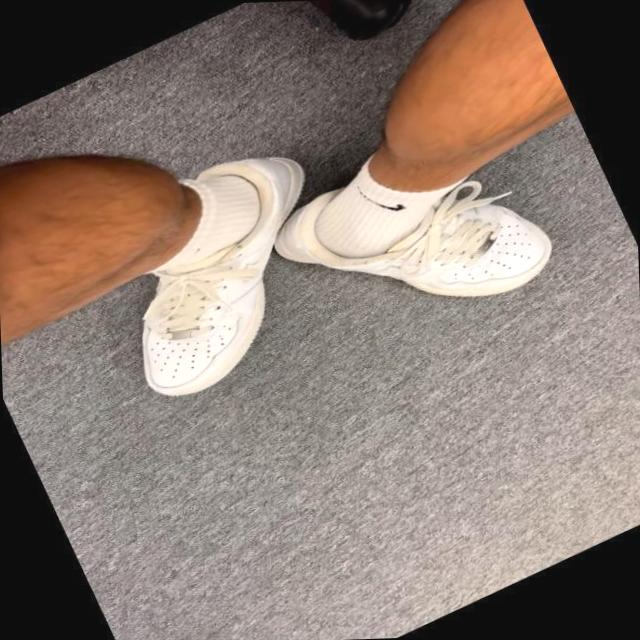nike_original_airforce: (251, 85, 579, 379), (60, 122, 375, 418)
